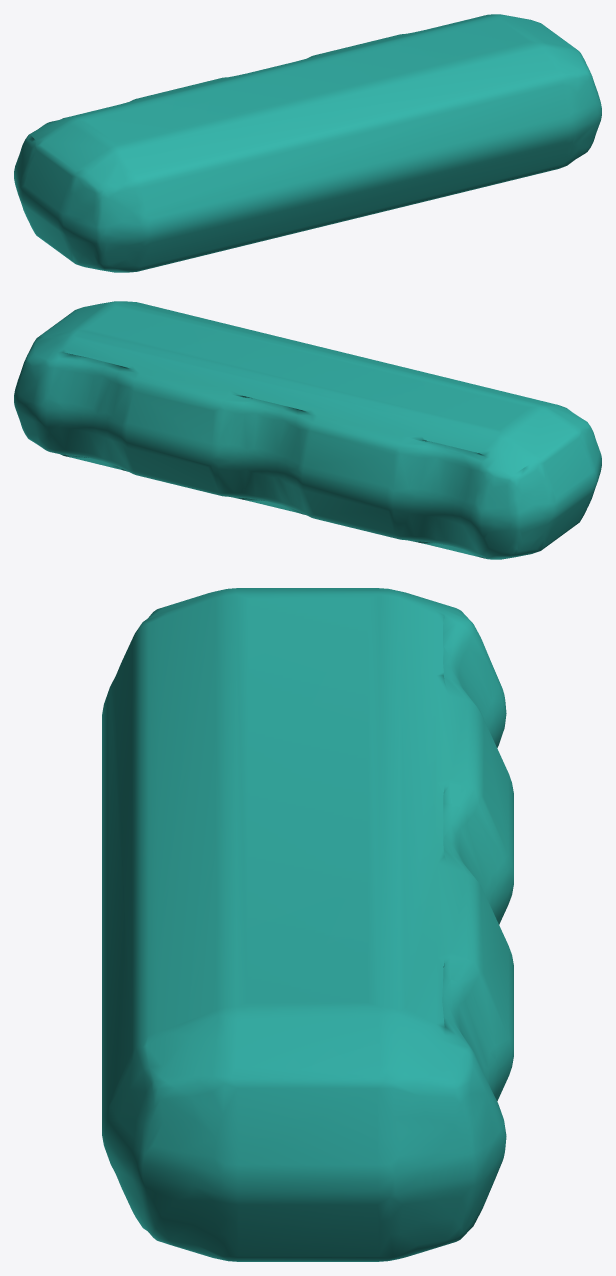
The model's file is shore_spade_grip.glb.
The picture shows the model from 3 angles, top to bottom: view 1: azimuth 30°, elevation 25°; view 2: azimuth 150°, elevation 25°; view 3: azimuth 270°, elevation 25°; orthographic projection. The views are drawn at different scales.
Parts seen in each view (by area): view 1: shore_spade_grip; view 2: shore_spade_grip; view 3: shore_spade_grip.
Part boxes in pixels (bbox=[...]): shore_spade_grip: bbox=[14, 14, 601, 272]; shore_spade_grip: bbox=[14, 301, 601, 559]; shore_spade_grip: bbox=[102, 588, 513, 1261].
Size of the model in its own units: 9 by 2 by 3.
